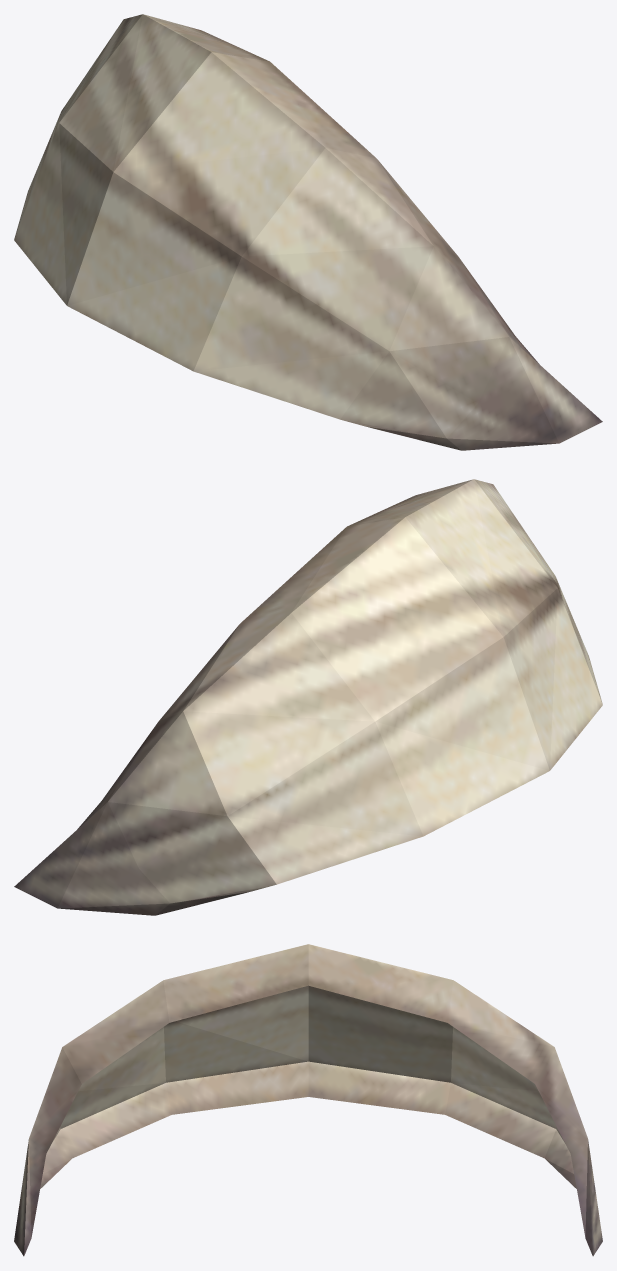
The model's file is Wolf_vagabondBandana.obj.
3 views of the same model, one above another, from view 1: azimuth 30°, elevation 25°; view 2: azimuth 150°, elevation 25°; view 3: azimuth 270°, elevation 25° (orthographic). The views are drawn at different scales.
Visible parts, largest first — view 1: Wolf_vagabondBandana_tri; view 2: Wolf_vagabondBandana_tri; view 3: Wolf_vagabondBandana_tri.
Boxes of the visible parts, x1,y1,x2,y2 form: Wolf_vagabondBandana_tri: (14,14,602,450); Wolf_vagabondBandana_tri: (14,479,602,915); Wolf_vagabondBandana_tri: (14,944,602,1256).
Bounding box in the file's own units: 0.1306 × 0.1033 × 0.2352.
Materials: 1 (1 with a texture image).
